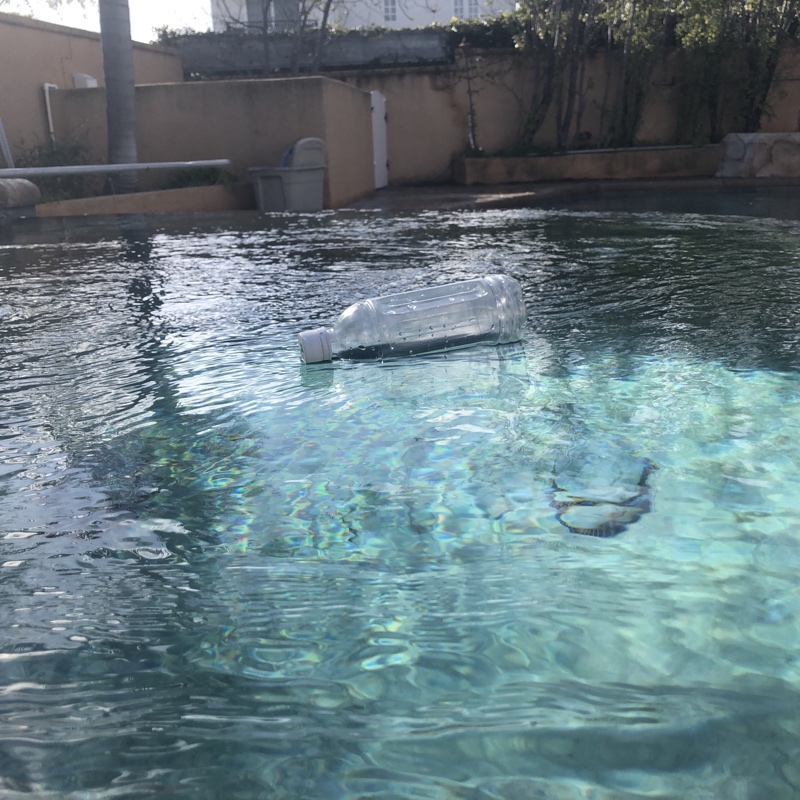Plastic Bottle: (292, 271, 530, 367)
